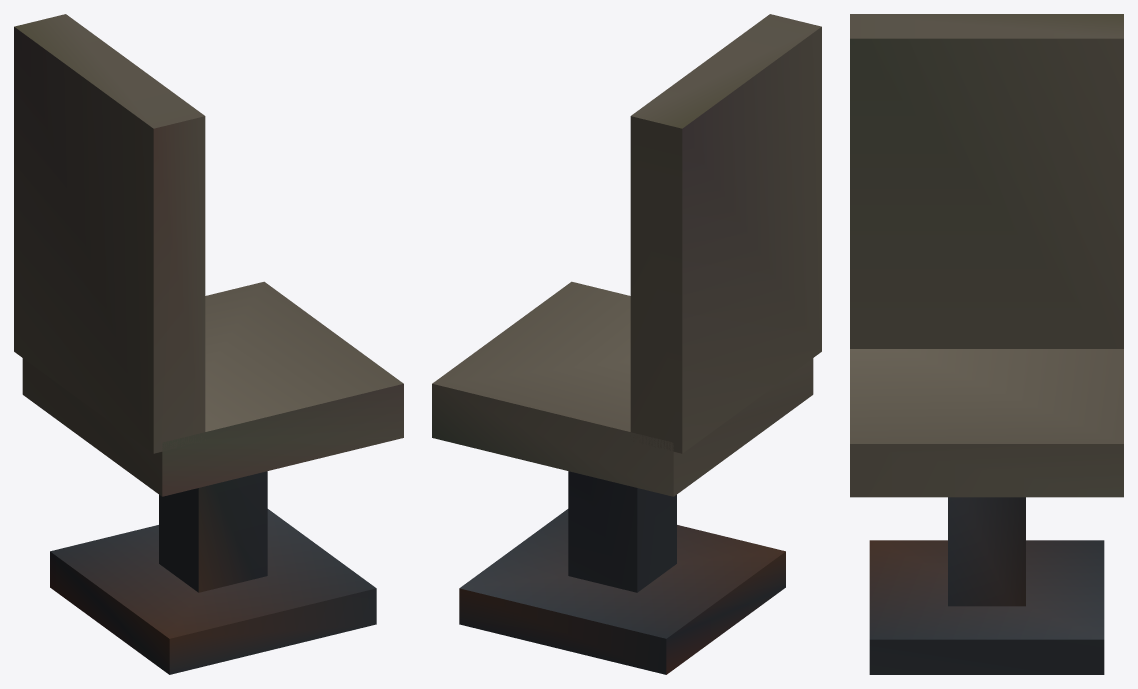
File: chair.glb
3 renders of one model, left to right at view 1: azimuth 30°, elevation 25°; view 2: azimuth 150°, elevation 25°; view 3: azimuth 270°, elevation 25°, orthographic.
Parts seen in each view (by area): view 1: chair; view 2: chair; view 3: chair.
Part boxes in pixels (left/top/right/bottom): chair: left=14, top=14, right=403, bottom=674; chair: left=432, top=14, right=821, bottom=674; chair: left=850, top=14, right=1123, bottom=674.
Size of the model in its own units: 14.5 by 31 by 14.
